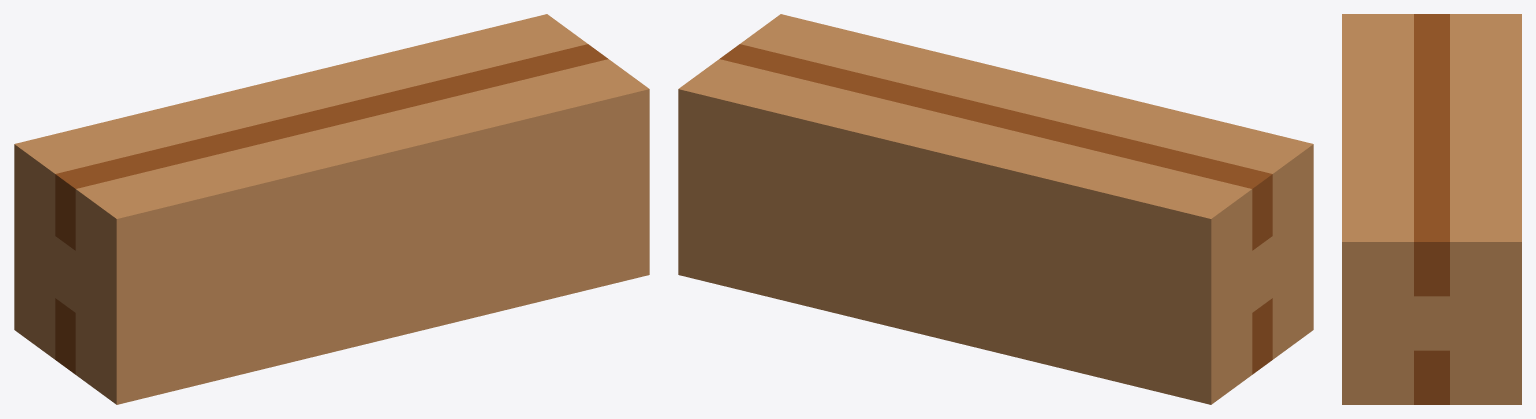
The model's file is carton.gltf.
The picture shows the model from 3 angles, left to right: view 1: azimuth 30°, elevation 25°; view 2: azimuth 150°, elevation 25°; view 3: azimuth 270°, elevation 25°; orthographic projection. The views are drawn at different scales.
Visible parts, largest first — view 1: Cube; view 2: Cube; view 3: Cube.
Boxes of the visible parts, <box> form: Cube: <box>14,14,649,404</box>; Cube: <box>678,14,1313,404</box>; Cube: <box>1342,14,1521,404</box>.
Bounding box in the file's own units: 6 × 2 × 2.
